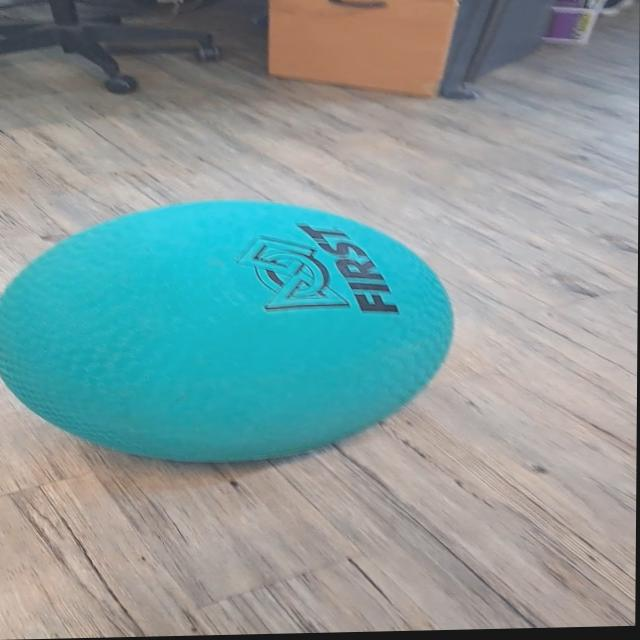ALGAE: (0, 193, 457, 468)
